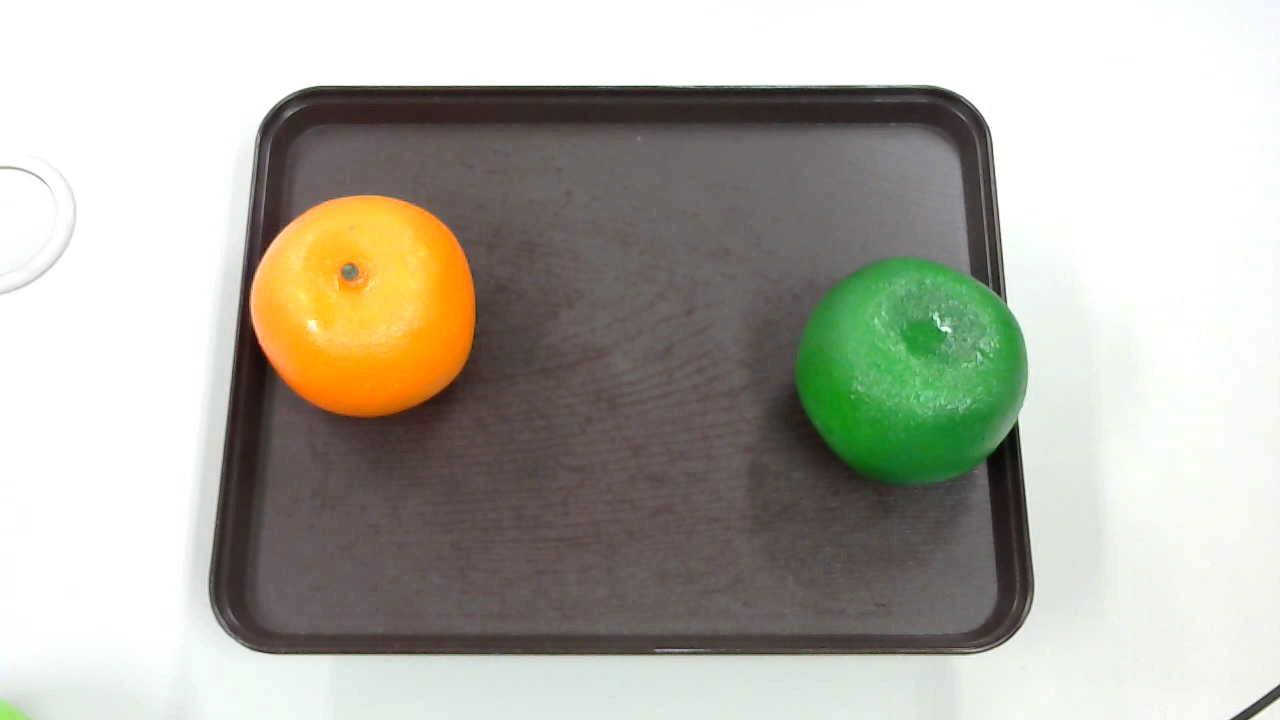green orange: (795, 251, 1033, 484)
orange: (249, 195, 475, 423)
